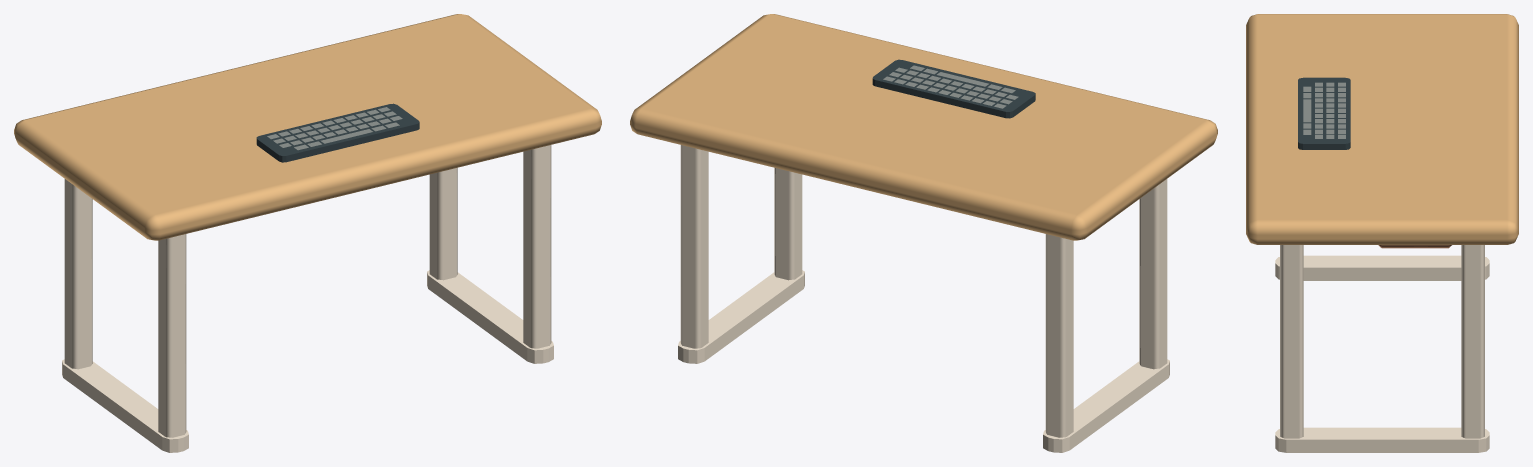
The model's file is kit_desk_bench_v1.glb.
3 views of the same model, side by side, from view 1: azimuth 30°, elevation 25°; view 2: azimuth 150°, elevation 25°; view 3: azimuth 270°, elevation 25° (orthographic). The views are drawn at different scales.
Parts seen in each view (by area): view 1: body; view 2: body; view 3: body.
Part boxes in pixels (<box>): body: <box>14,14,601,452</box>; body: <box>630,14,1217,452</box>; body: <box>1246,14,1518,452</box>.
Size of the model in its own units: 1.4 by 0.759 by 0.75.
